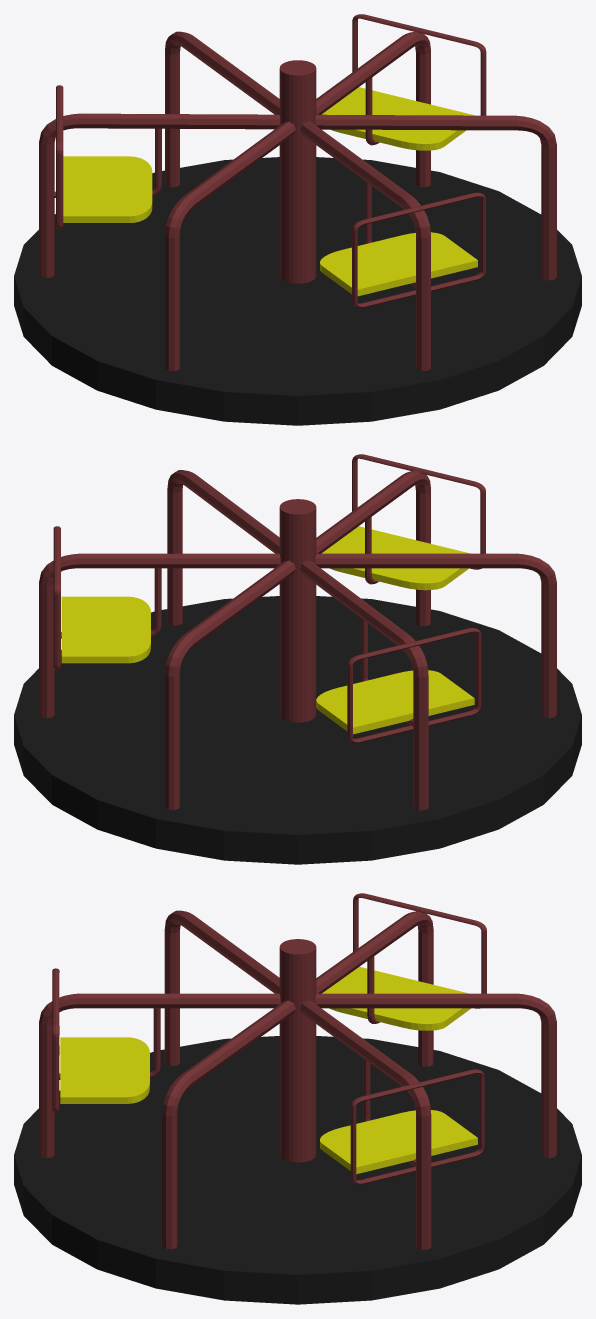
Rendered from Roundabout(Kids).fbx.
3 views of the same model, one above another, from view 1: azimuth 30°, elevation 25°; view 2: azimuth 150°, elevation 25°; view 3: azimuth 270°, elevation 25° (orthographic).
Visible parts, largest first — view 1: Cylinder, Cylinder.001, Cylinder.003, Cube.004, Cylinder.002, Cube.001, Cylinder.007, Cylinder.005, Cylinder.004, Cube.003, Cylinder.006, Cylinder.011 (+2 smaller); view 2: Cylinder, Cylinder.001, Cylinder.007, Cube.003, Cylinder.006, Cube.004, Cylinder.002, Cylinder.004, Cylinder.003, Cube.001, Cylinder.005, Cylinder.013 (+3 smaller); view 3: Cylinder, Cylinder.001, Cylinder.004, Cube.001, Cylinder.005, Cube.003, Cylinder.003, Cylinder.006, Cylinder.007, Cube.004, Cylinder.002, Cylinder.014 (+3 smaller).
Part boxes in pixels (x1,y1,x2,y2): Cylinder: [14, 157, 581, 425]; Cylinder.001: [279, 60, 316, 283]; Cylinder.003: [315, 114, 556, 280]; Cube.004: [63, 156, 152, 222]; Cylinder.002: [39, 113, 280, 277]; Cube.001: [320, 232, 477, 296]; Cylinder.007: [165, 121, 295, 370]; Cylinder.005: [300, 121, 430, 370]; Cylinder.004: [165, 31, 279, 187]; Cube.003: [322, 87, 475, 150]; Cylinder.006: [316, 31, 430, 187]; Cylinder.011: [352, 192, 485, 307]; Cylinder: [14, 596, 581, 864]; Cylinder.001: [279, 499, 316, 722]; Cylinder.007: [315, 553, 556, 717]; Cube.003: [61, 596, 150, 663]; Cylinder.006: [39, 553, 280, 718]; Cube.004: [316, 670, 474, 734]; Cylinder.002: [300, 560, 428, 810]; Cylinder.004: [165, 560, 295, 809]; Cylinder.003: [167, 470, 279, 625]; Cube.001: [321, 526, 470, 590]; Cylinder.005: [316, 470, 430, 626]; Cylinder.013: [347, 628, 481, 743]; Cylinder: [14, 1036, 581, 1304]; Cylinder.001: [279, 939, 316, 1162]; Cylinder.004: [315, 993, 556, 1157]; Cube.001: [60, 1037, 149, 1103]; Cylinder.005: [39, 993, 280, 1157]; Cube.003: [320, 1110, 477, 1174]; Cylinder.003: [162, 1000, 295, 1249]; Cylinder.006: [300, 1000, 431, 1249]; Cylinder.007: [164, 910, 279, 1066]; Cube.004: [322, 966, 470, 1030]; Cylinder.002: [316, 911, 433, 1066]; Cylinder.014: [350, 1069, 484, 1184].
Size of the model in its own units: 63.34 by 29.27 by 63.34.
